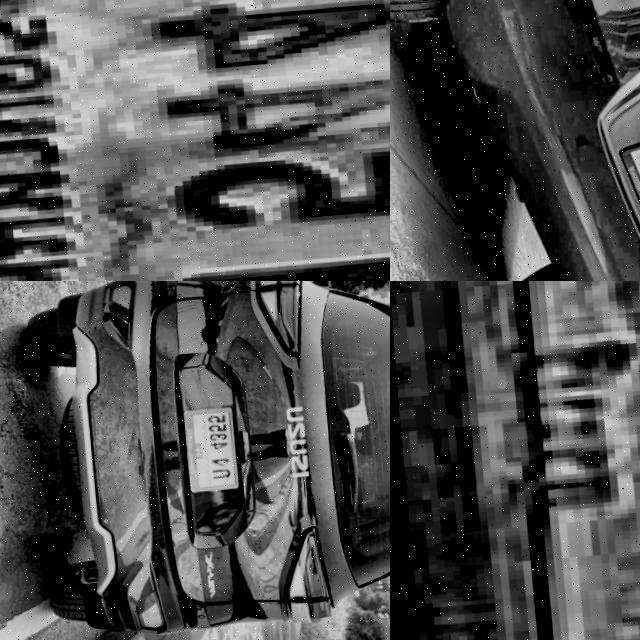license-plate: (0, 0, 390, 281), (418, 281, 640, 640), (166, 403, 244, 502), (607, 130, 640, 245)
